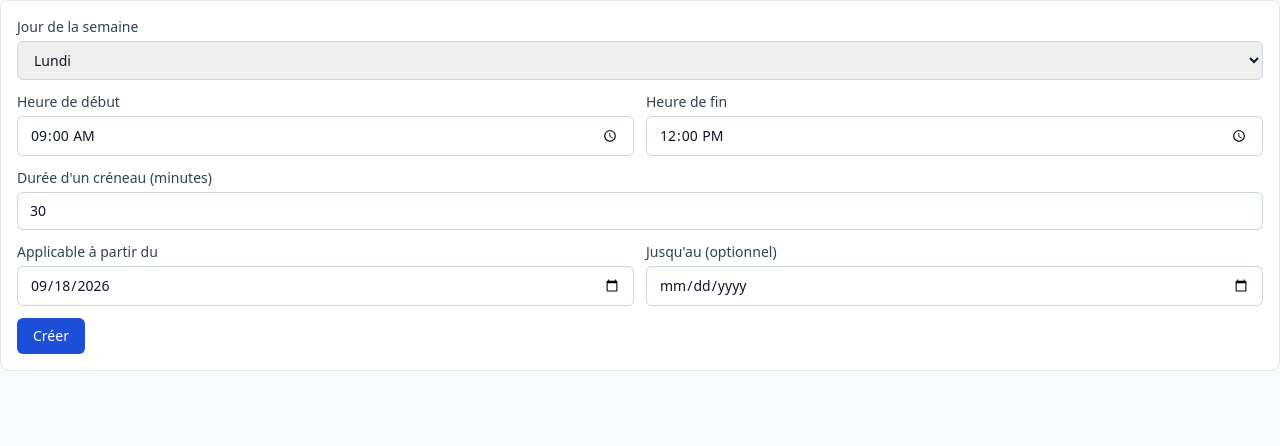
it: AvailabilityRuleForm › affiche une erreur 400 (validation) renvoyée par l'API
Click the button "Créer" at coordinates (51, 336), box [17,318,85,354]
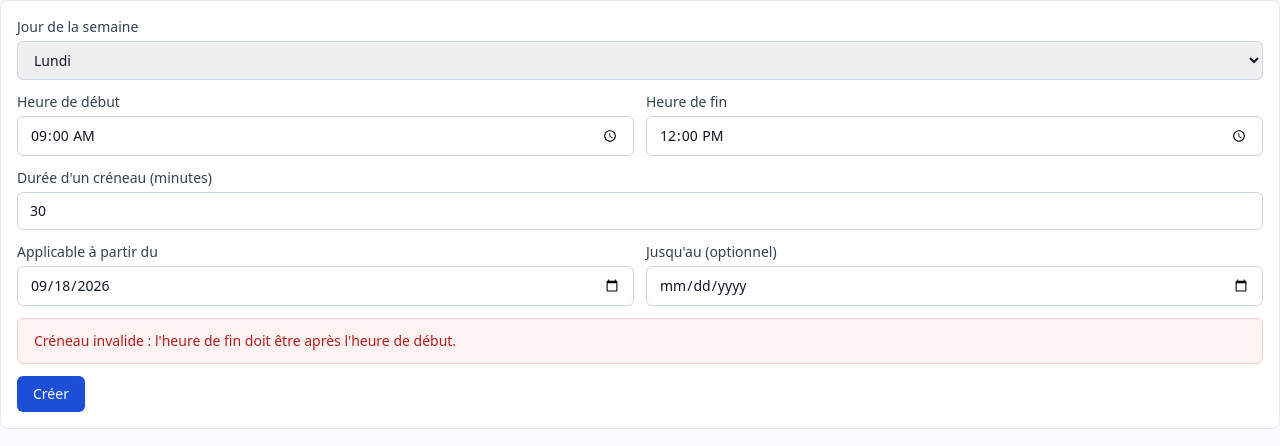
Expected: the message shows "l'heure de fin doit être après l'heure de début", [34,331,456,350]
